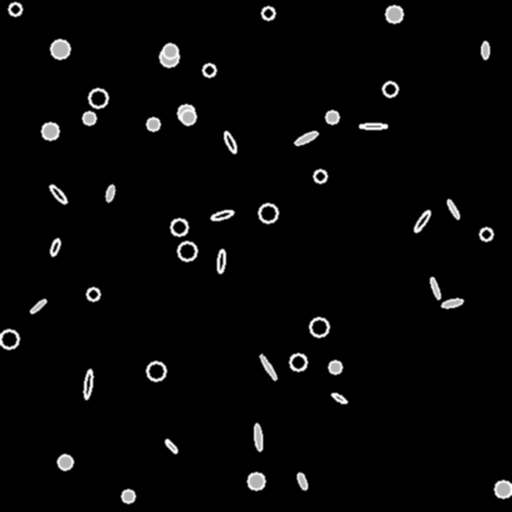pseudomonas: (258, 354, 278, 380), (293, 129, 319, 147), (48, 183, 68, 205), (413, 209, 431, 233), (222, 131, 238, 153), (210, 208, 234, 222), (83, 369, 93, 399), (29, 298, 47, 314), (429, 276, 441, 300), (446, 199, 460, 219), (253, 424, 263, 450), (164, 438, 178, 454), (441, 298, 463, 308), (296, 472, 308, 490), (49, 238, 61, 256), (331, 392, 347, 404), (105, 184, 115, 202), (217, 250, 225, 272), (360, 124, 386, 129), (482, 42, 488, 58)
synechocystis: (160, 48, 178, 66), (310, 318, 328, 336), (147, 362, 165, 380), (178, 242, 196, 260), (89, 89, 107, 107), (0, 330, 18, 348), (51, 40, 69, 58), (259, 204, 277, 222), (495, 481, 511, 497), (42, 123, 58, 139), (248, 473, 264, 489), (386, 6, 402, 22), (290, 354, 306, 370), (178, 105, 194, 121), (171, 219, 187, 235), (383, 82, 397, 96), (58, 455, 72, 469), (181, 110, 195, 124), (163, 44, 177, 58), (122, 490, 134, 502), (83, 112, 95, 124), (329, 361, 341, 373), (87, 288, 99, 300), (203, 64, 215, 76), (480, 228, 492, 240), (147, 118, 159, 130), (326, 111, 338, 123), (262, 7, 274, 19), (9, 3, 21, 15), (314, 170, 326, 182)
